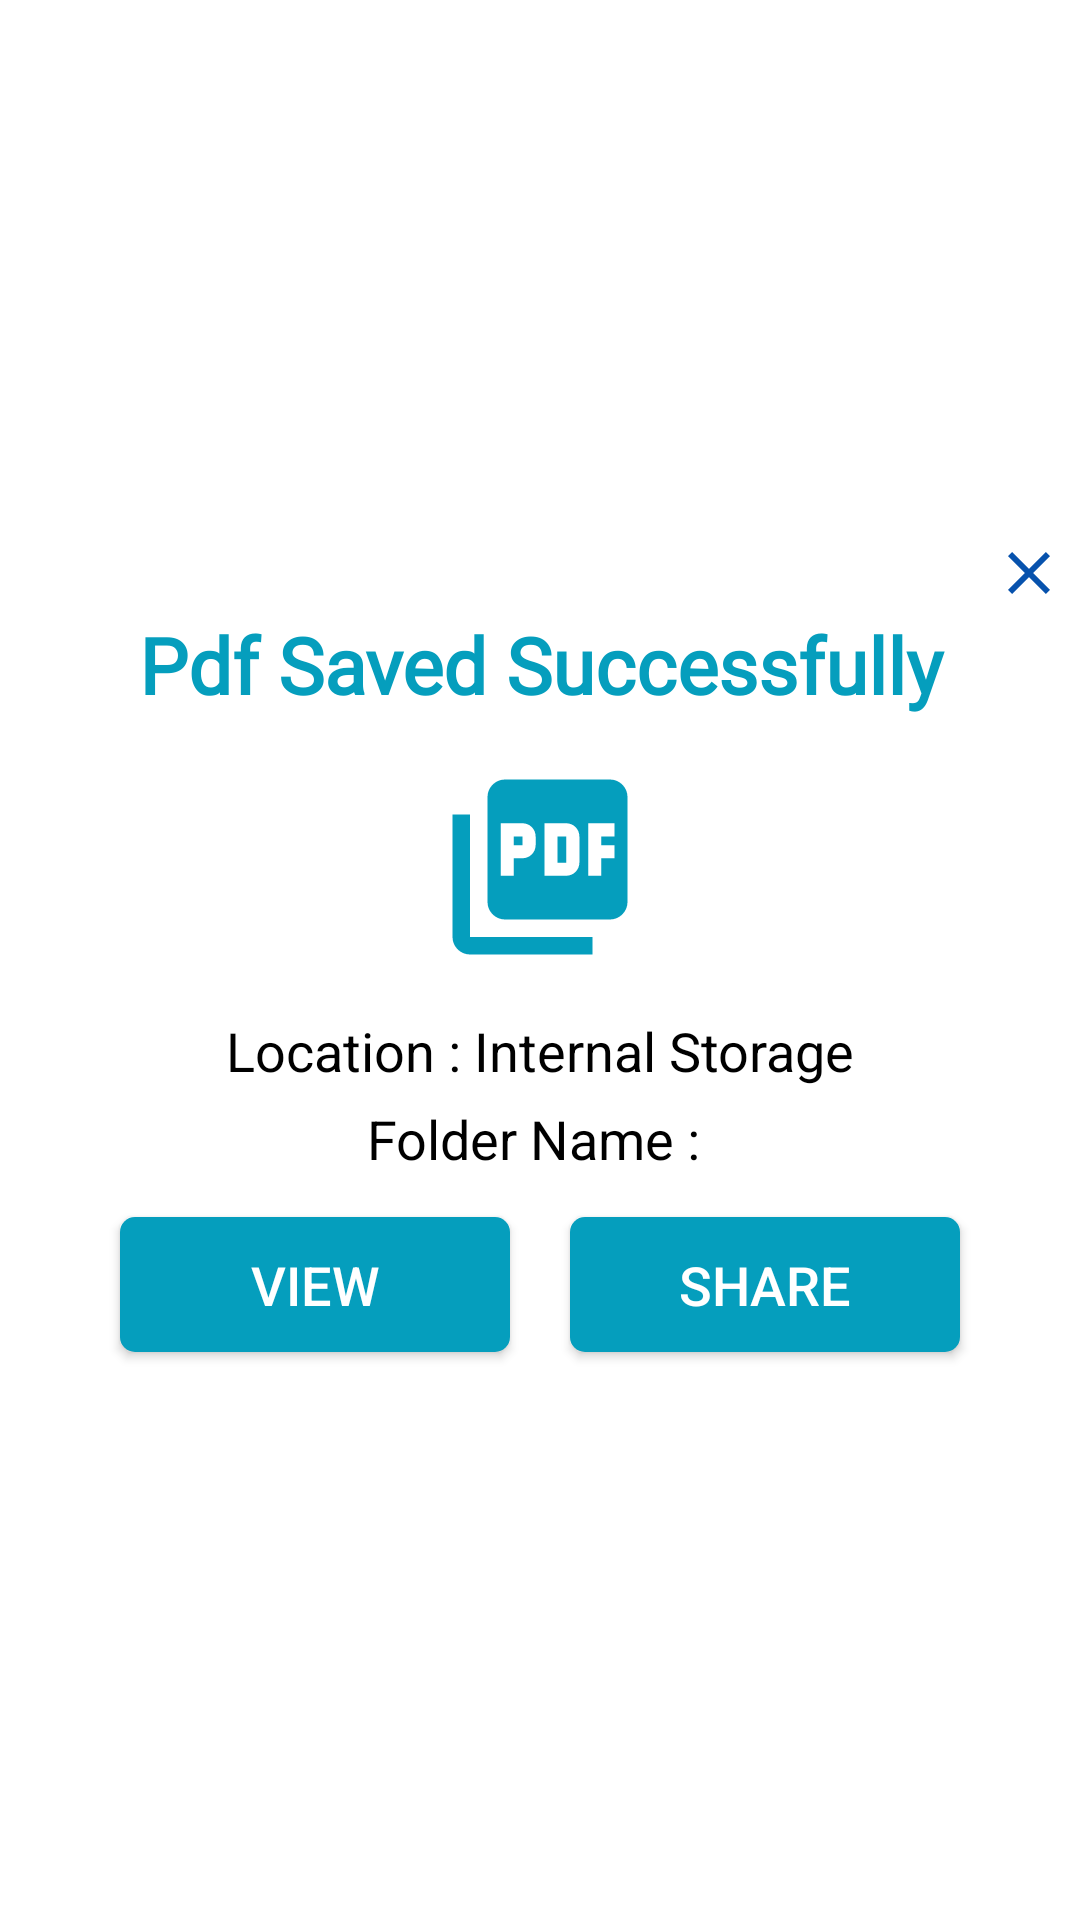

Where to tap for icons on this 1080w x 1920h app screen, as (x,y):
close: (1029,573)
